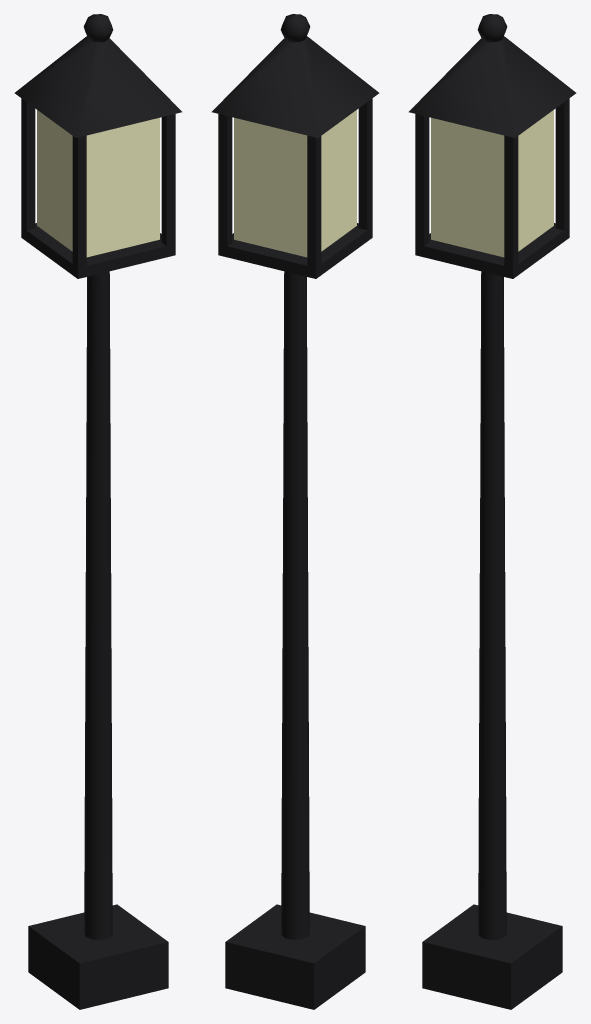
File: farol.obj
3 renders of one model, left to right at view 1: azimuth 30°, elevation 25°; view 2: azimuth 150°, elevation 25°; view 3: azimuth 330°, elevation 25°, orthographic.
Parts seen in each view (by area): view 1: farol; view 2: farol; view 3: farol.
Boxes of the visible parts, x1,y1,x2,y2 form: farol: [14, 14, 182, 1009]; farol: [211, 14, 379, 1009]; farol: [408, 14, 576, 1009].
Size of the model in its own units: 0.1202 by 1.04 by 0.1202.
